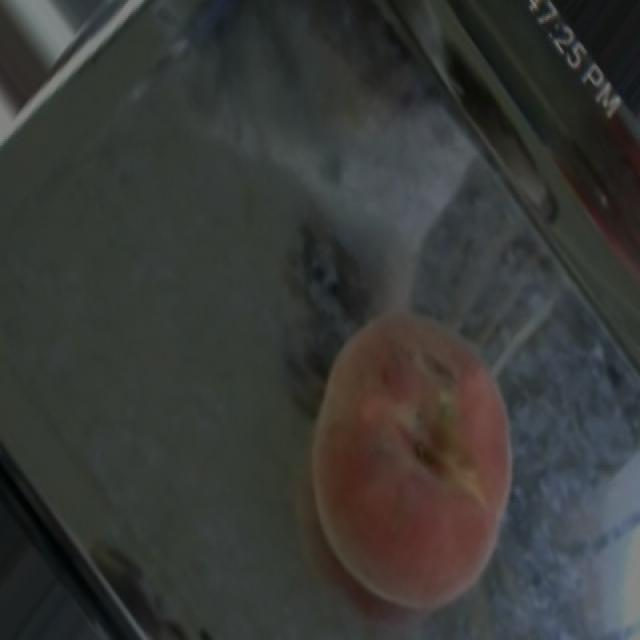Fruit: (264, 272, 545, 640)
